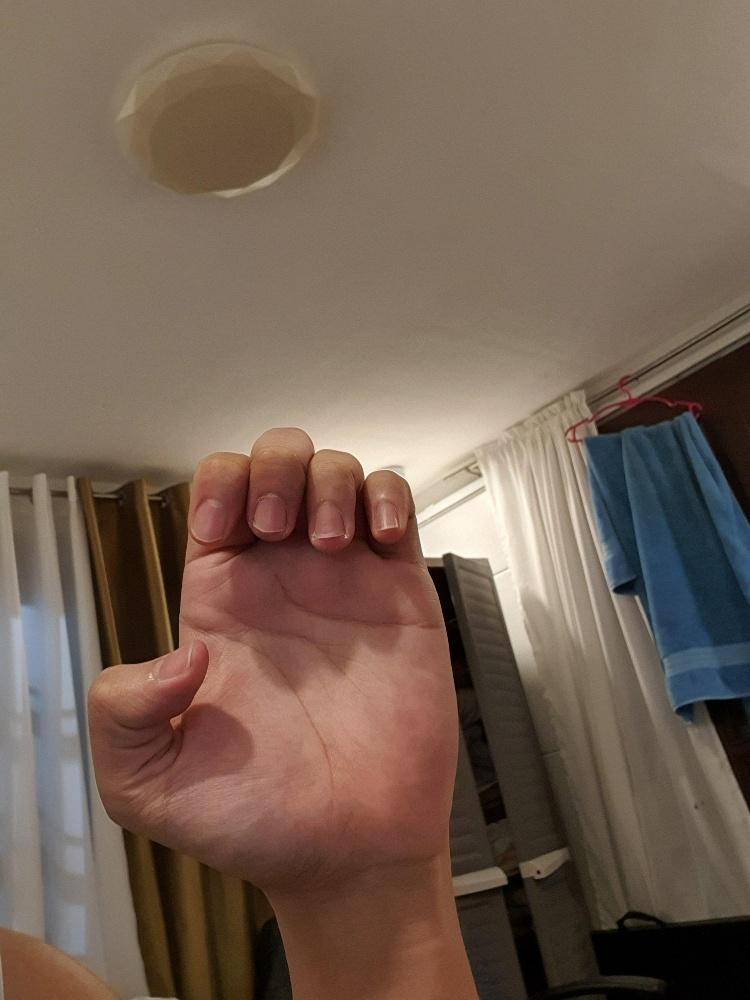e: (80, 422, 464, 897)
